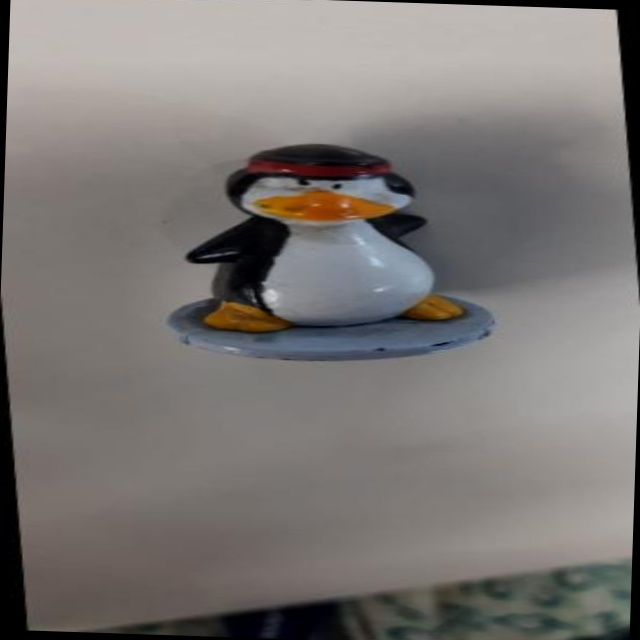Penguin: (115, 110, 532, 406)
